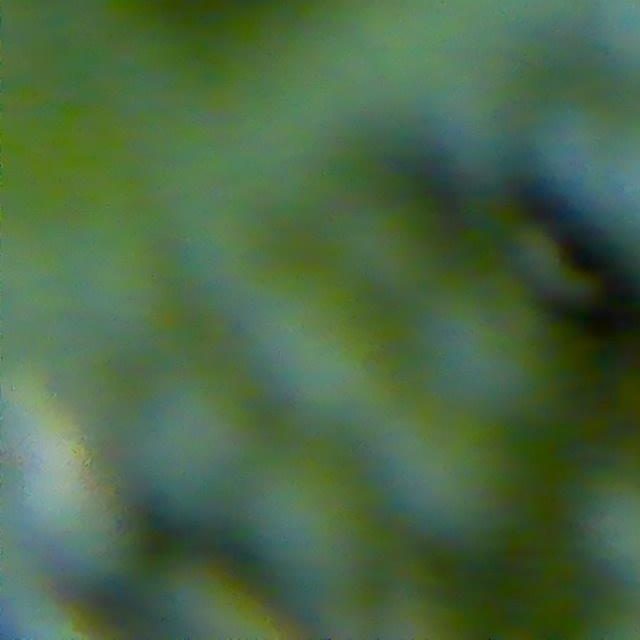SeaGrape: (423, 55, 529, 179)
